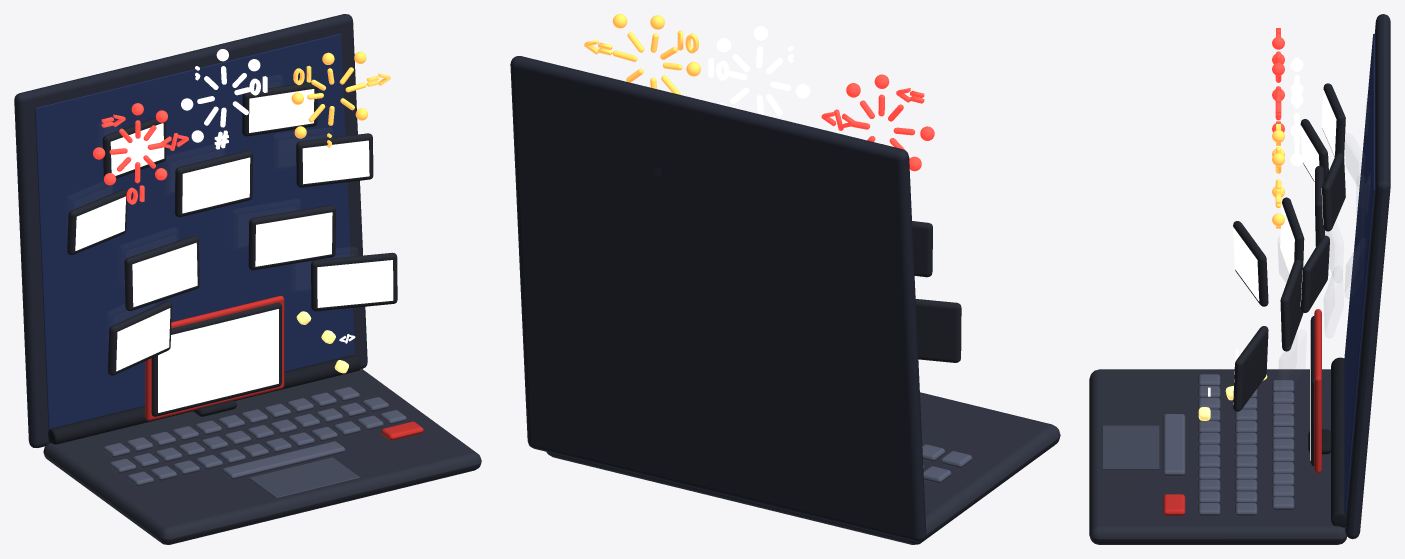
File: scene-laptop.glb
3 renders of one model, left to right at view 1: azimuth 30°, elevation 25°; view 2: azimuth 150°, elevation 25°; view 3: azimuth 270°, elevation 25°, orthographic. The views are drawn at different scales.
Visible parts, largest first — view 1: SM_Lap_LidScreen, SM_Lap_Deck, SM_Lap_Lid, SM_Lap_Screen01_SCREEN, SM_Lap_Screen05_SCREEN, SM_Lap_Screen03_SCREEN, SM_Lap_Hinge, SM_Lap_Screen04_SCREEN, SM_Lap_Screen08_SCREEN, SM_Lap_Screen07_SCREEN, SM_Lap_Trackpad, SM_Lap_Screen02_SCREEN (+15 smaller); view 2: SM_Lap_Lid, SM_Lap_Deck, SM_Lap_Screen02_Bezel, SM_Lap_Screen06_Bezel; view 3: SM_Lap_Deck, SM_Lap_Lid, SM_Lap_LidScreen, SM_Lap_Trackpad, SM_Lap_Hinge, SM_Lap_Screen03_Bezel, SM_Lap_Screen05_Bezel, SM_Lap_Key_Space, SM_Lap_Screen07_Bezel, SM_Lap_Screen10_Bezel, SM_Lap_Screen01_Frame, SM_Lap_Screen02_SCREEN (+10 smaller).
Boxes of the visible parts, <box> form: SM_Lap_LidScreen: <box>35,33,354,429</box>; SM_Lap_Deck: <box>43,368,481,544</box>; SM_Lap_Lid: <box>14,14,367,447</box>; SM_Lap_Screen01_SCREEN: <box>158,309,278,412</box>; SM_Lap_Screen05_SCREEN: <box>255,212,332,266</box>; SM_Lap_Screen03_SCREEN: <box>317,260,393,307</box>; SM_Lap_Hinge: <box>48,354,360,444</box>; SM_Lap_Screen04_SCREEN: <box>132,242,197,307</box>; SM_Lap_Screen08_SCREEN: <box>182,157,250,213</box>; SM_Lap_Screen07_SCREEN: <box>302,140,369,184</box>; SM_Lap_Trackpad: <box>249,457,359,498</box>; SM_Lap_Screen02_SCREEN: <box>116,308,170,371</box>; SM_Lap_Lid: <box>510,56,926,541</box>; SM_Lap_Deck: <box>546,392,1060,544</box>; SM_Lap_Screen02_Bezel: <box>915,299,961,362</box>; SM_Lap_Screen06_Bezel: <box>912,221,932,277</box>; SM_Lap_Deck: <box>1089,369,1347,544</box>; SM_Lap_Lid: <box>1345,14,1390,539</box>; SM_Lap_LidScreen: <box>1344,34,1374,514</box>; SM_Lap_Trackpad: <box>1102,425,1159,469</box>; SM_Lap_Hinge: <box>1331,357,1346,527</box>; SM_Lap_Screen03_Bezel: <box>1233,326,1268,411</box>; SM_Lap_Screen05_Bezel: <box>1280,259,1303,351</box>; SM_Lap_Key_Space: <box>1163,414,1185,476</box>; SM_Lap_Screen07_Bezel: <box>1300,235,1329,312</box>; SM_Lap_Screen10_Bezel: <box>1322,153,1345,231</box>; SM_Lap_Screen01_Frame: <box>1314,309,1321,473</box>; SM_Lap_Screen02_SCREEN: <box>1233,227,1259,300</box>.
Bounding box in the file's own units: 4.4 × 4.85 × 3.27.
